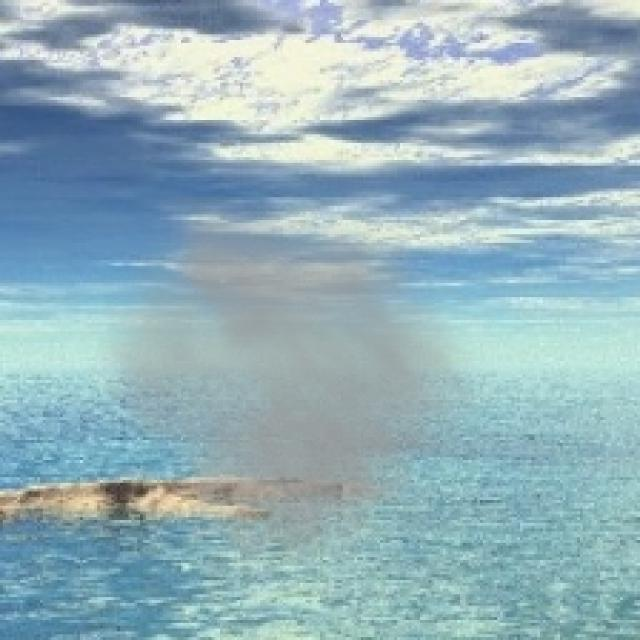smoke: (83, 197, 494, 603)
